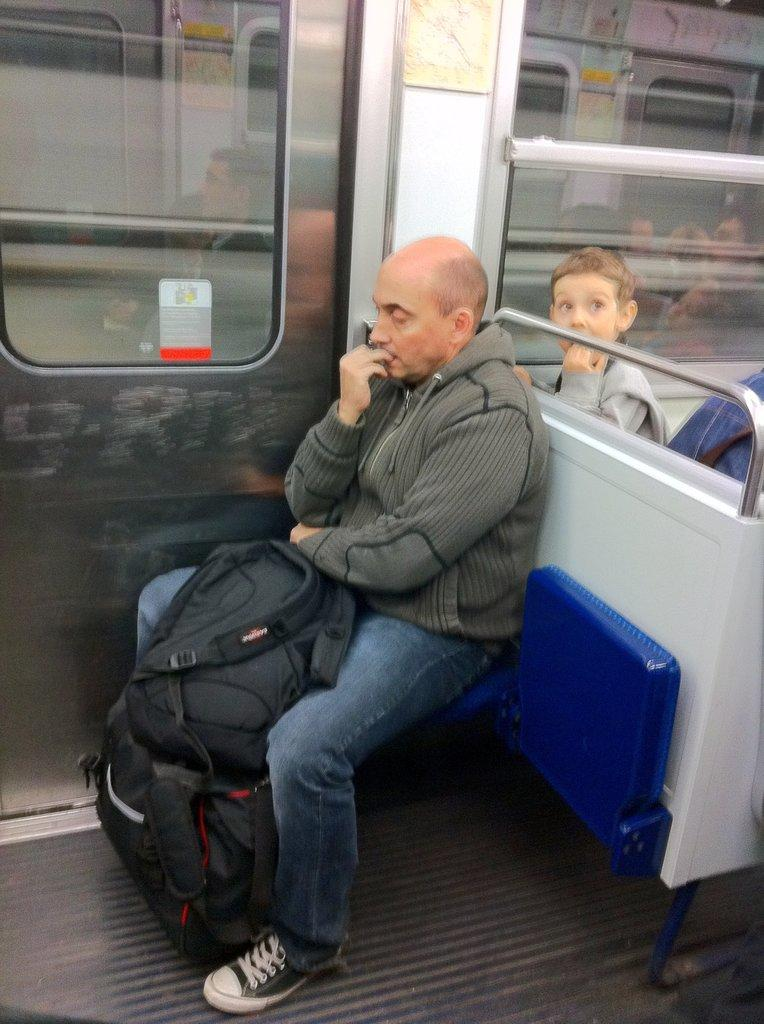Luggage-and-bags: (117, 532, 371, 772), (74, 693, 283, 970)
